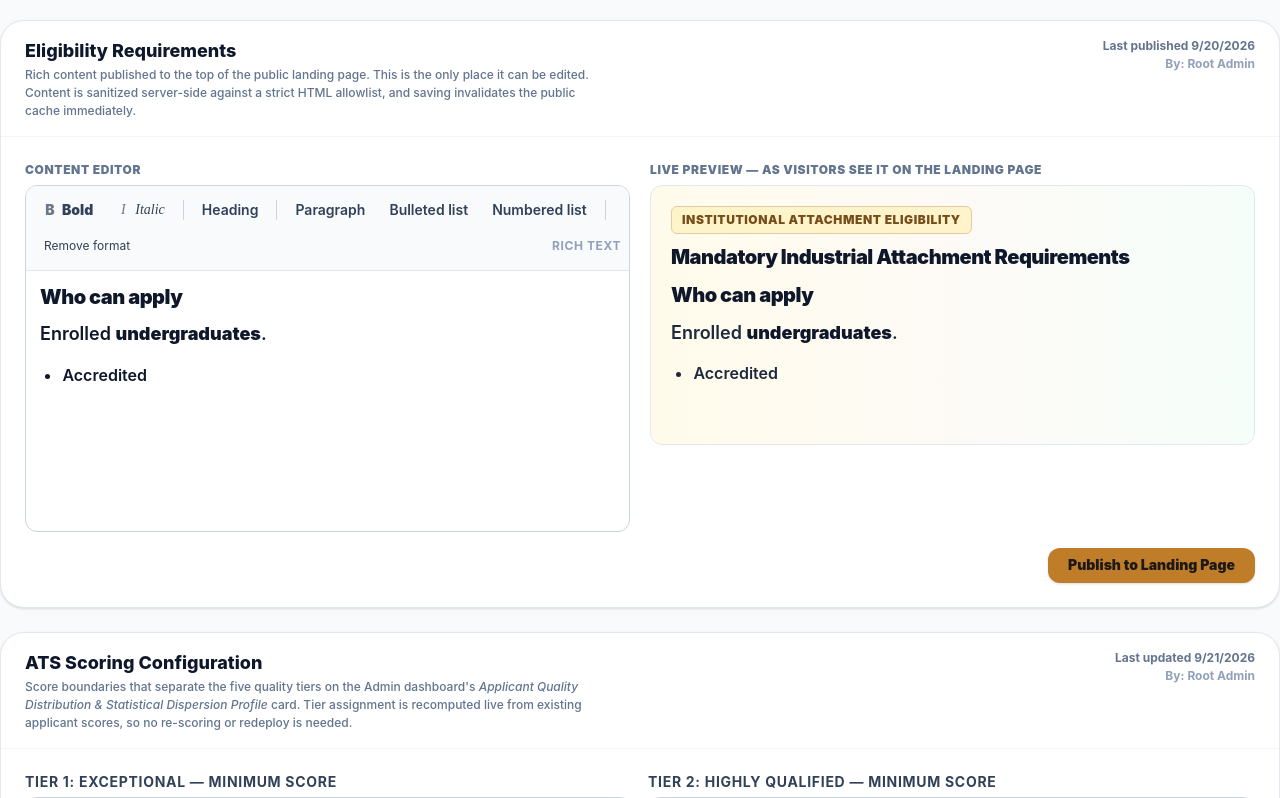
it: SystemSettings — Eligibility & ATS sections › surfaces a server-side sanitization error without losing the draft
(page scrolled)
Clear the field with test id "rich-text-editor": (153, 335) [40,285,267,385]
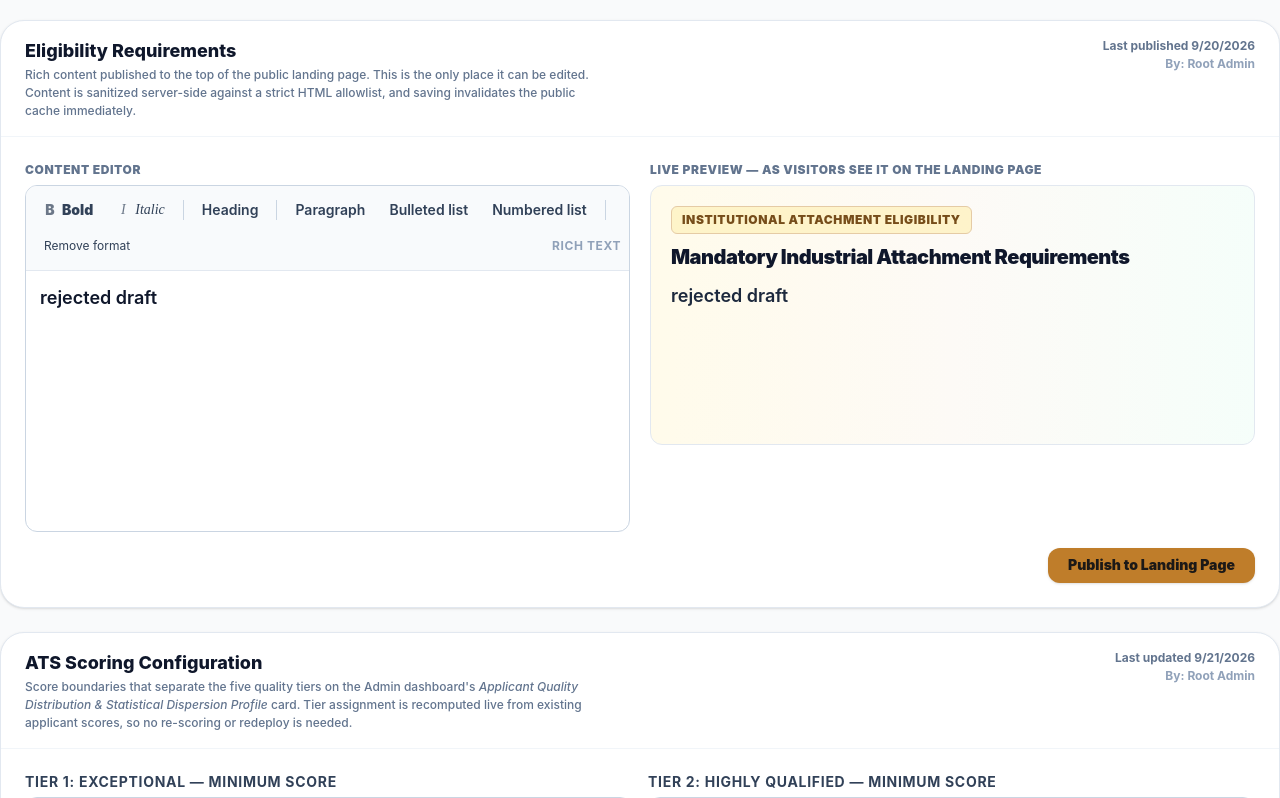
Click the button "Publish to Landing Page": (1152, 565) [1048,548,1255,583]
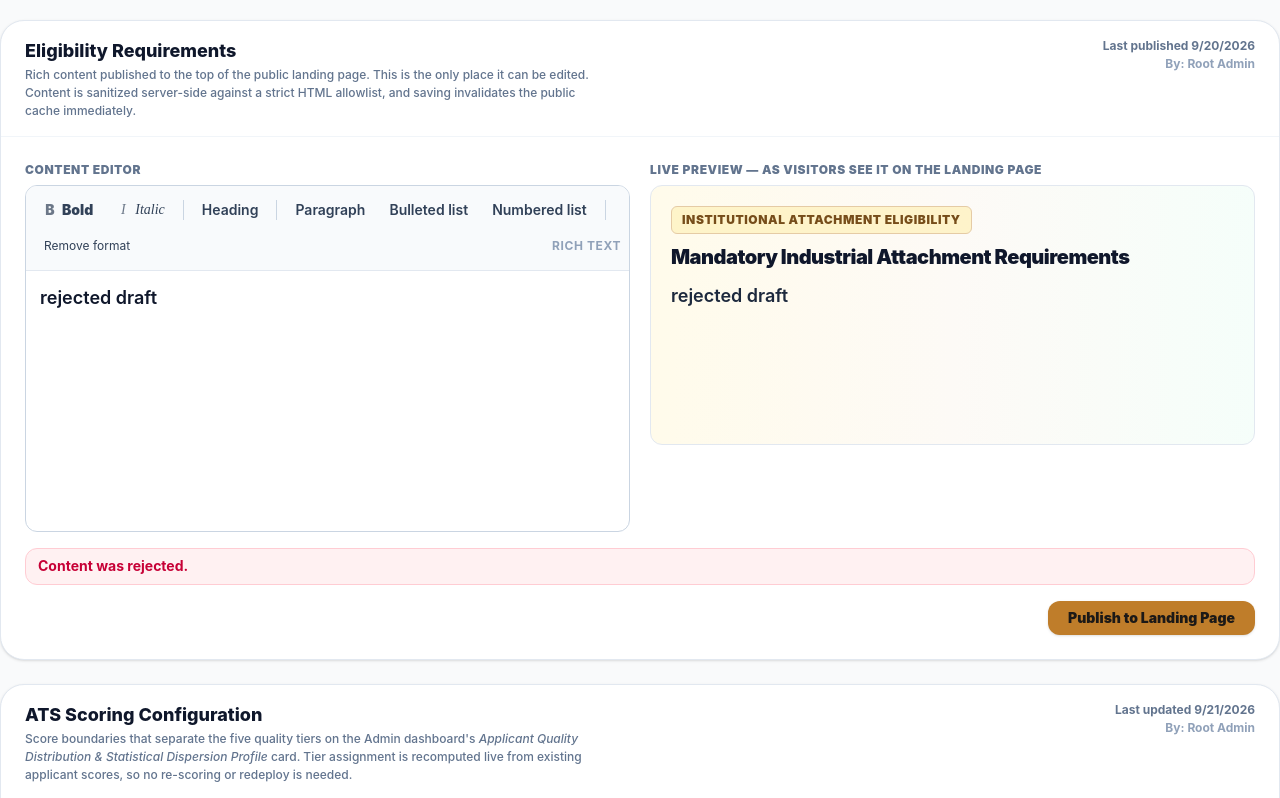
Expected: the text "Content was rejected." is shown, [25,548,1255,585]
